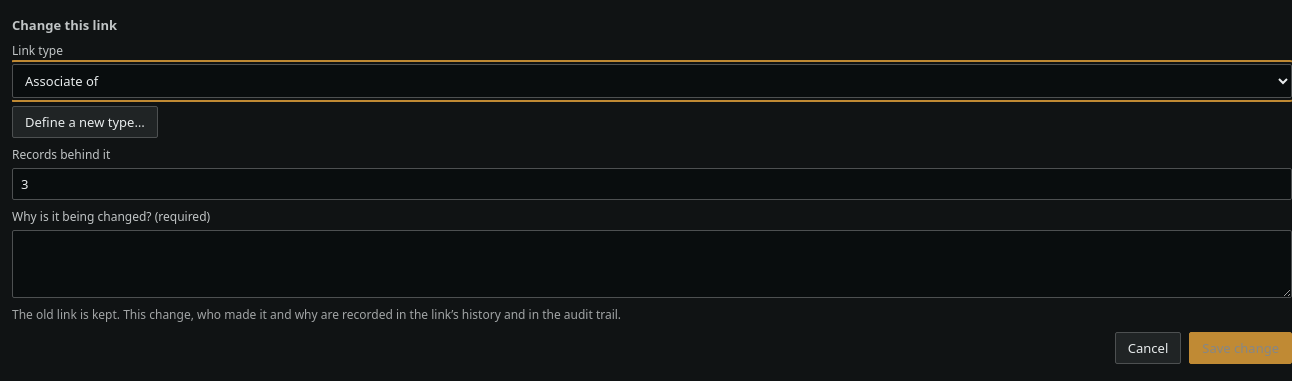
Test case: LinkChange › sends only the change with its reason and hands the result to the caller
The width and height of the screenshot is (1292, 381).
Step 1. Replace the text in the number field labelled "Records behind it" with "7" → x=652, y=184, box 12,168 -> 1291,200
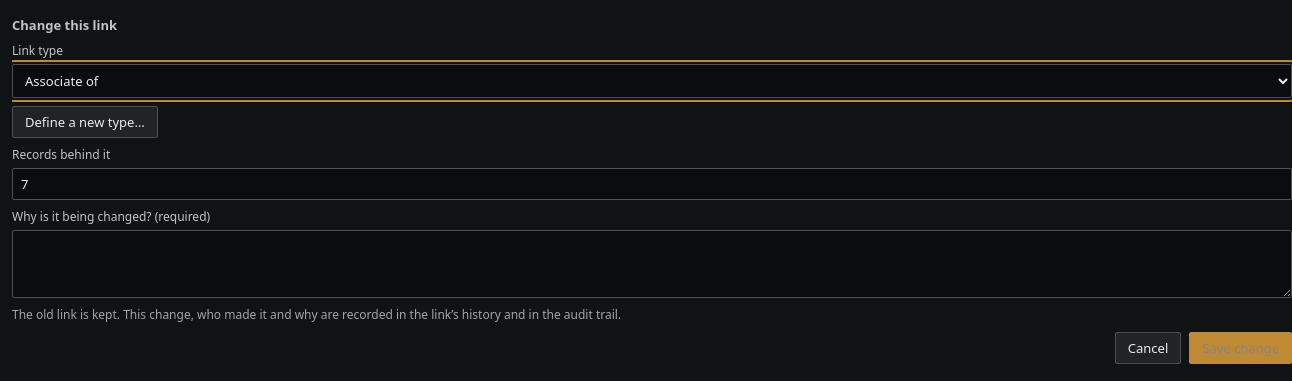
Step 2. Type "Seen again" into the text box labelled "Why is it being changed? (required)" → x=652, y=264, box 12,230 -> 1291,298
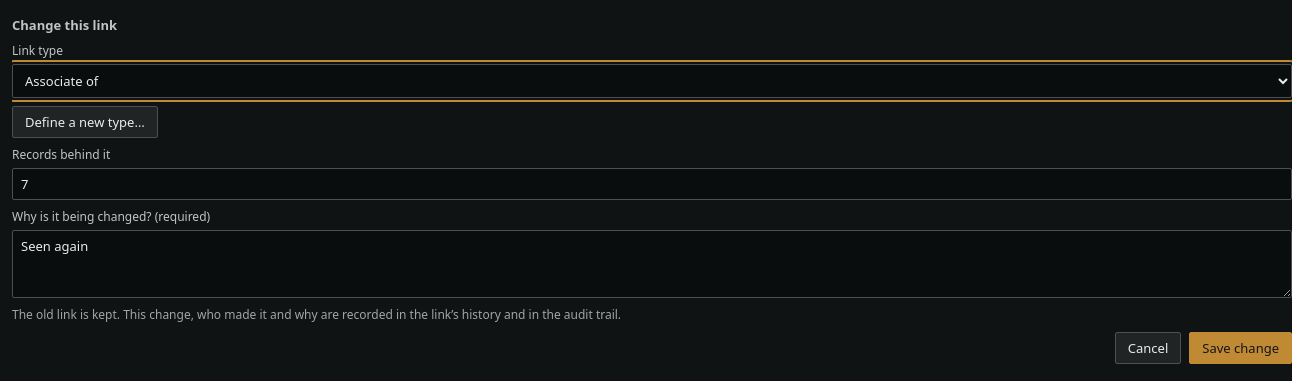
Step 3. Click the button "Save change" → x=1241, y=348, box 1189,332 -> 1291,364
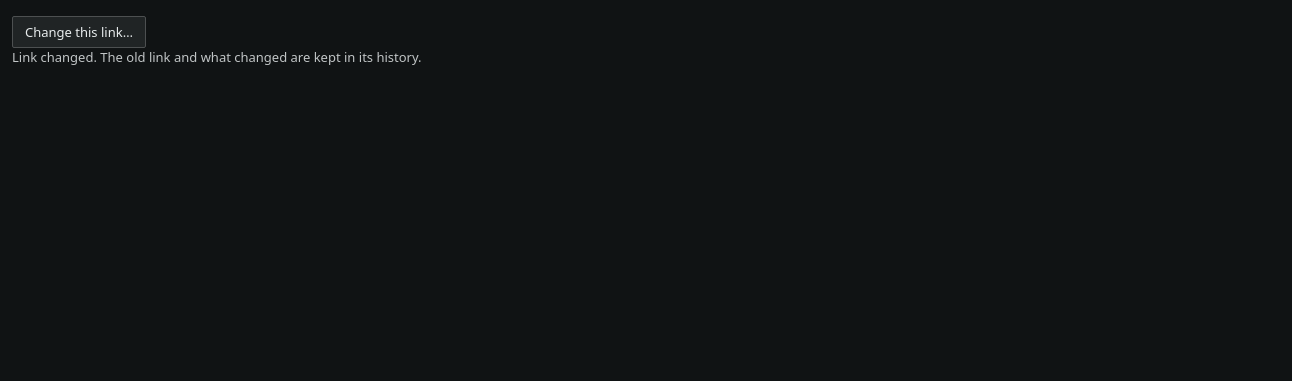
Expected: the message shows "Link changed", 12,48 -> 422,66
